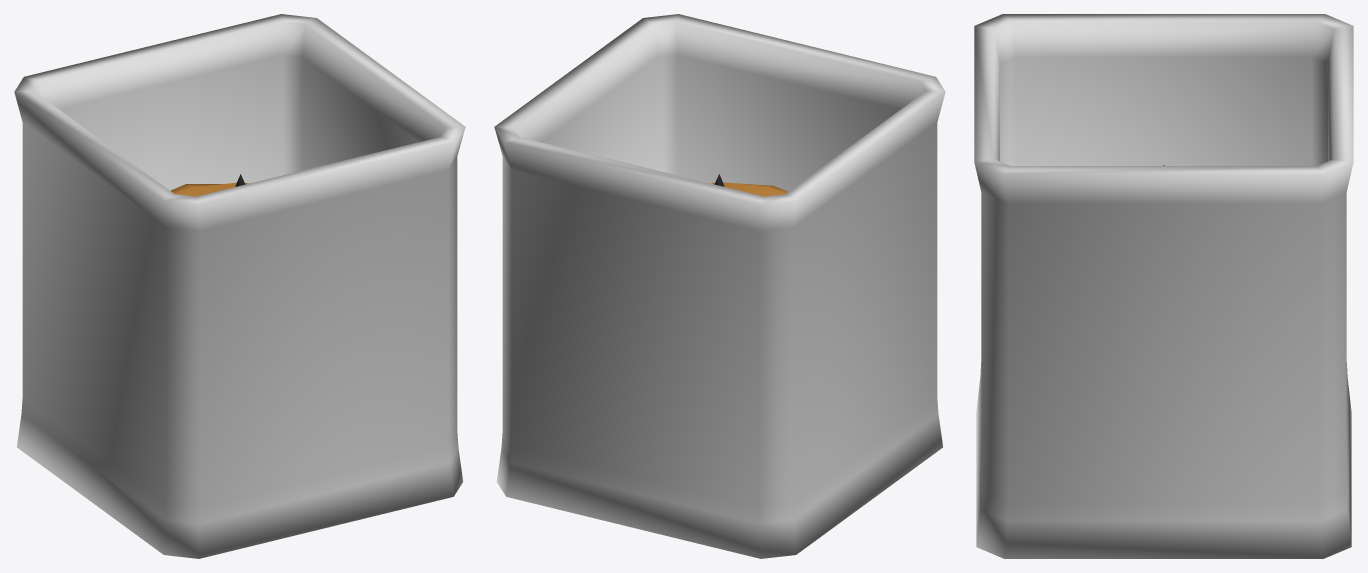
Rendered from Candle_01.fbx.
3 renders of one model, left to right at view 1: azimuth 30°, elevation 25°; view 2: azimuth 150°, elevation 25°; view 3: azimuth 270°, elevation 25°, orthographic. The views are drawn at different scales.
Visible parts, largest first — view 1: Candle_01; view 2: Candle_01; view 3: Candle_01.
Boxes of the visible parts, x1,y1,x2,y2 form: Candle_01: (14,14,465,558); Candle_01: (494,14,945,558); Candle_01: (974,14,1353,558).
Bounding box in the file's own units: 0.0935 × 0.1048 × 0.0935.
